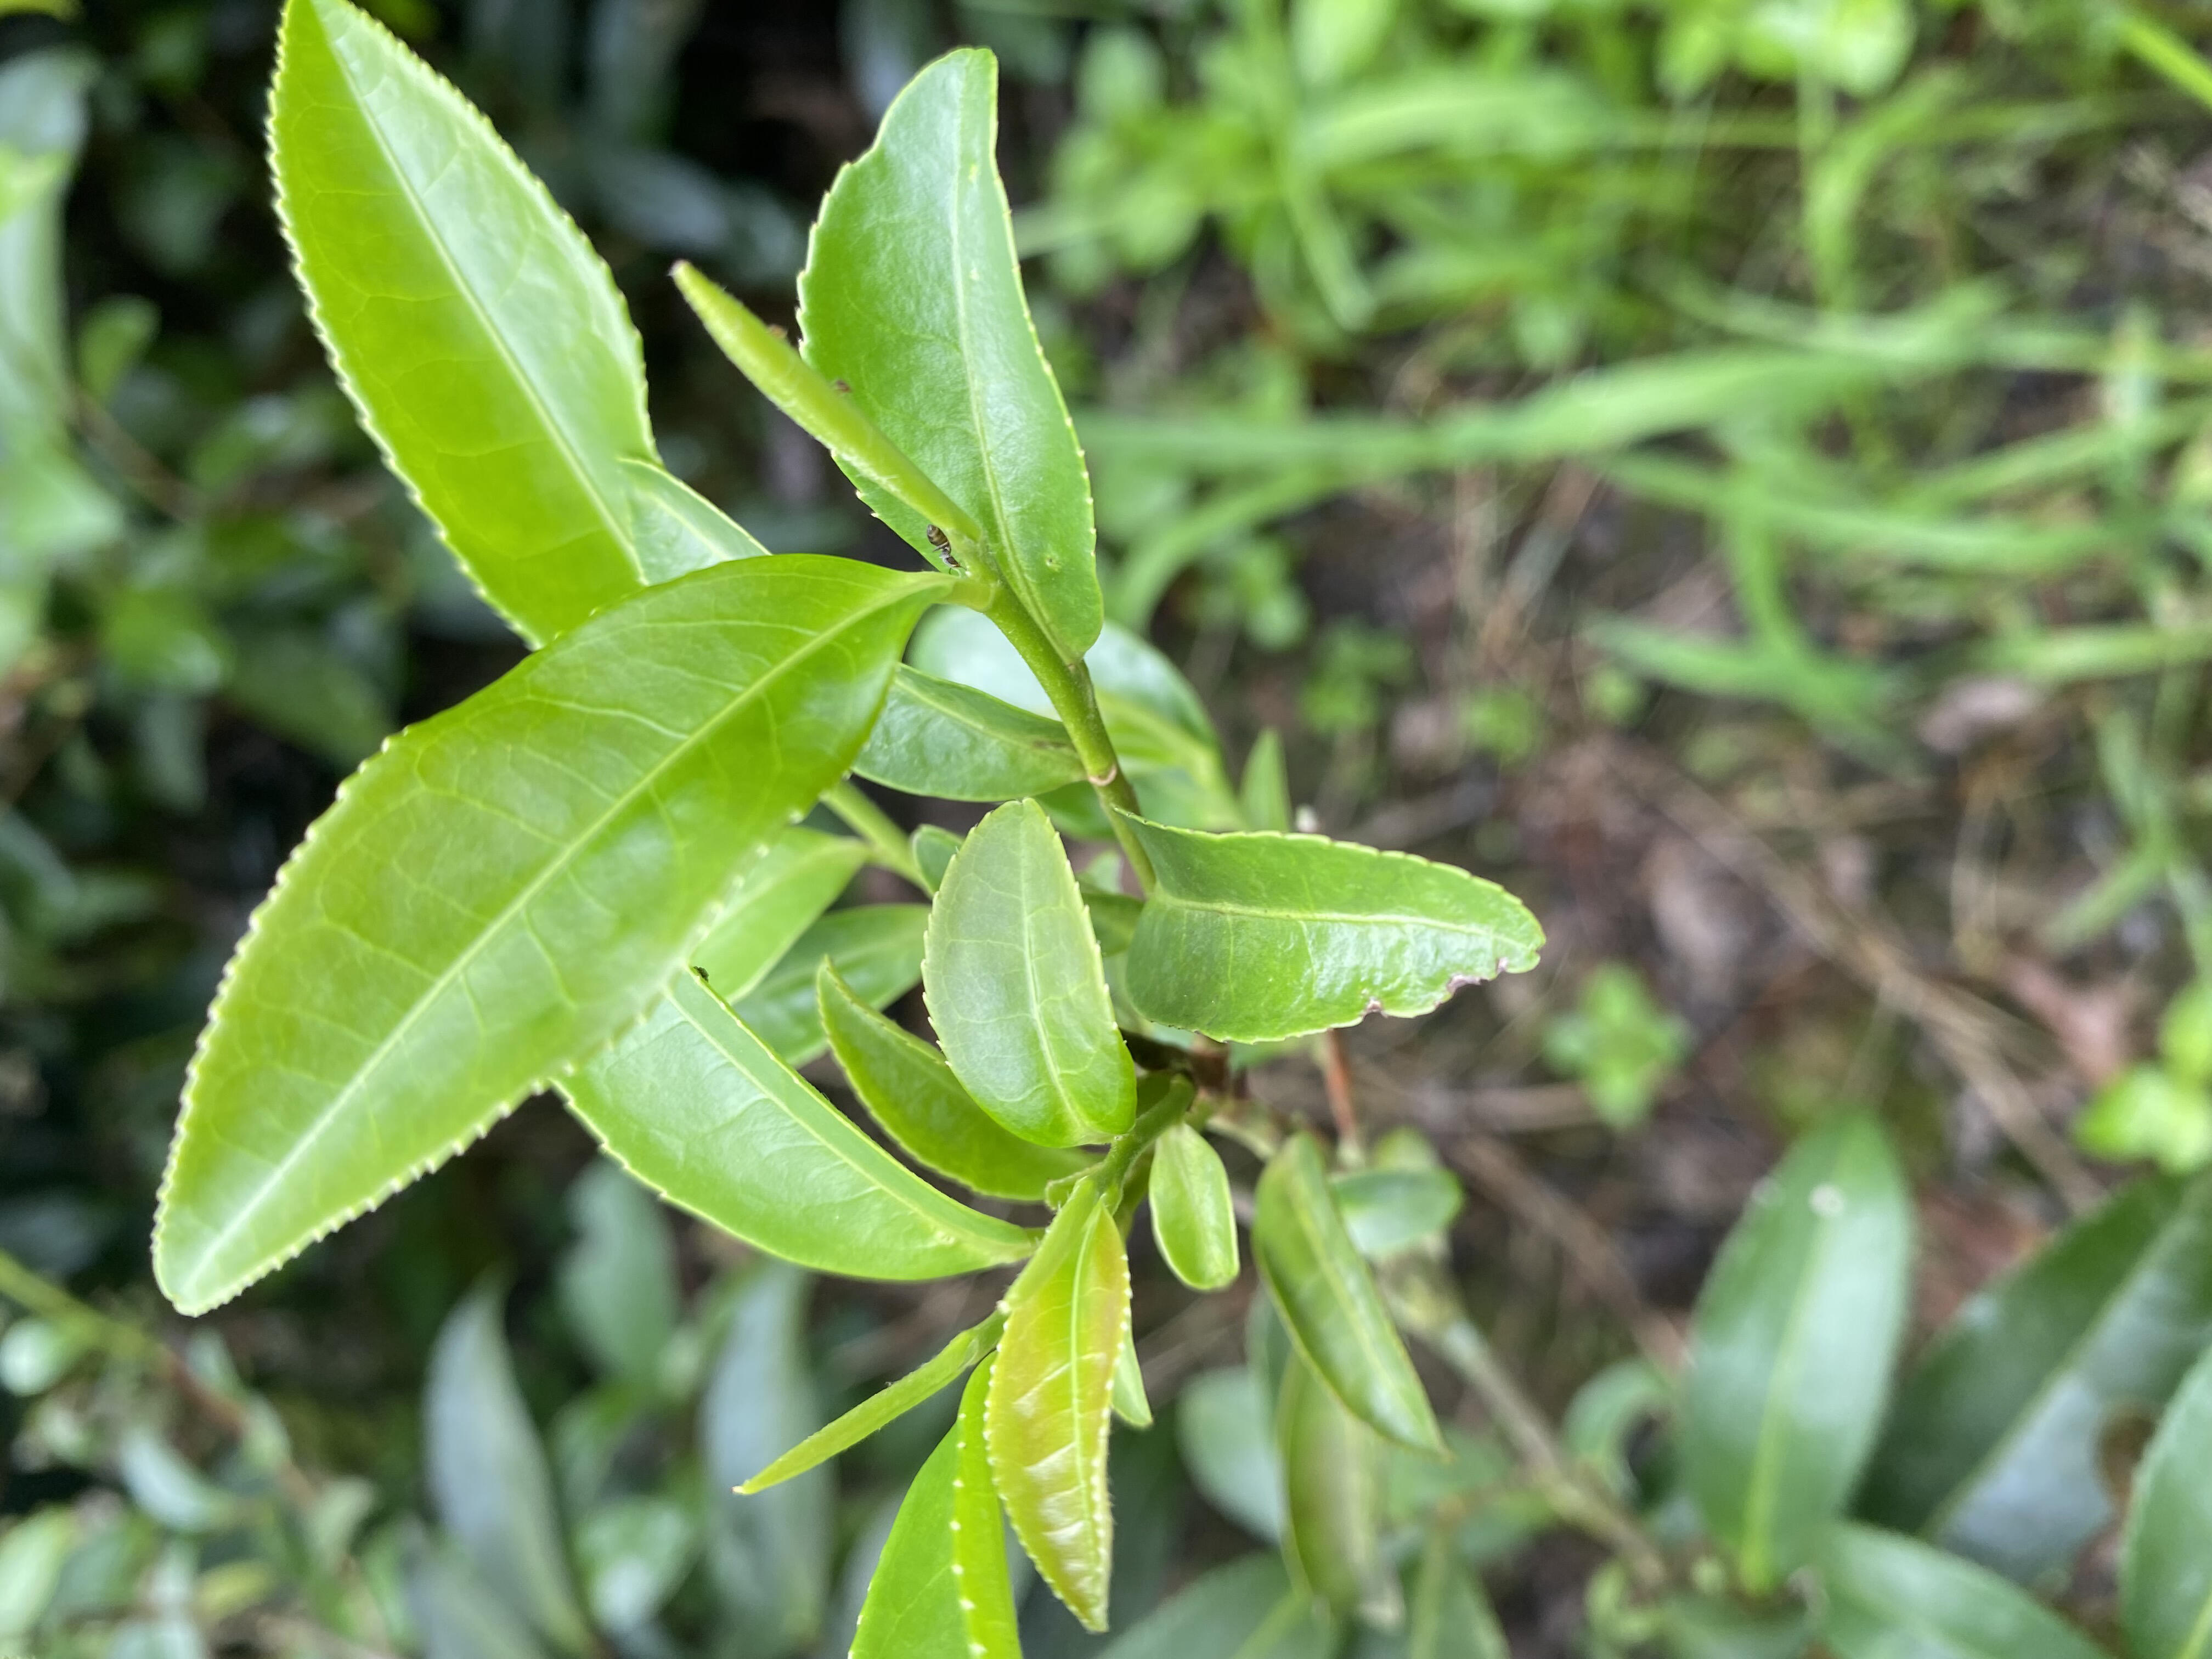healthy: (148, 551, 948, 1323), (253, 2, 667, 629), (799, 45, 1108, 657), (571, 971, 1031, 1279), (921, 798, 1137, 1148), (812, 957, 1087, 1199)
tanju_low: (1111, 800, 1550, 1044), (988, 1206, 1136, 1635)
